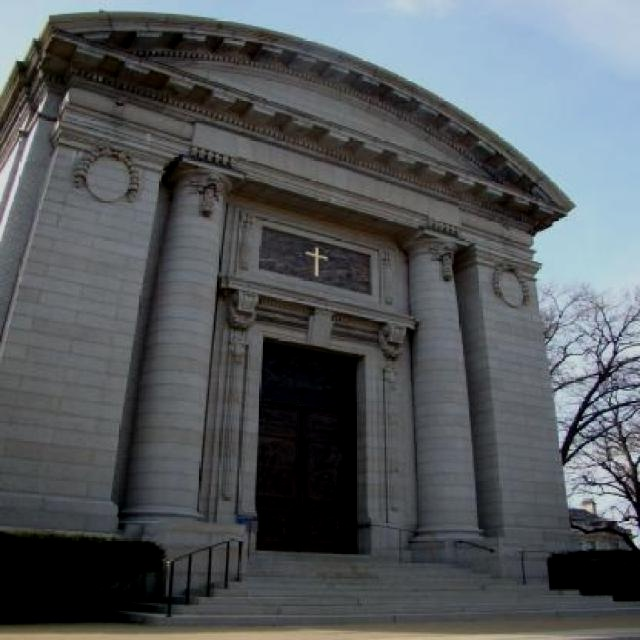stair: (94, 551, 640, 627)
